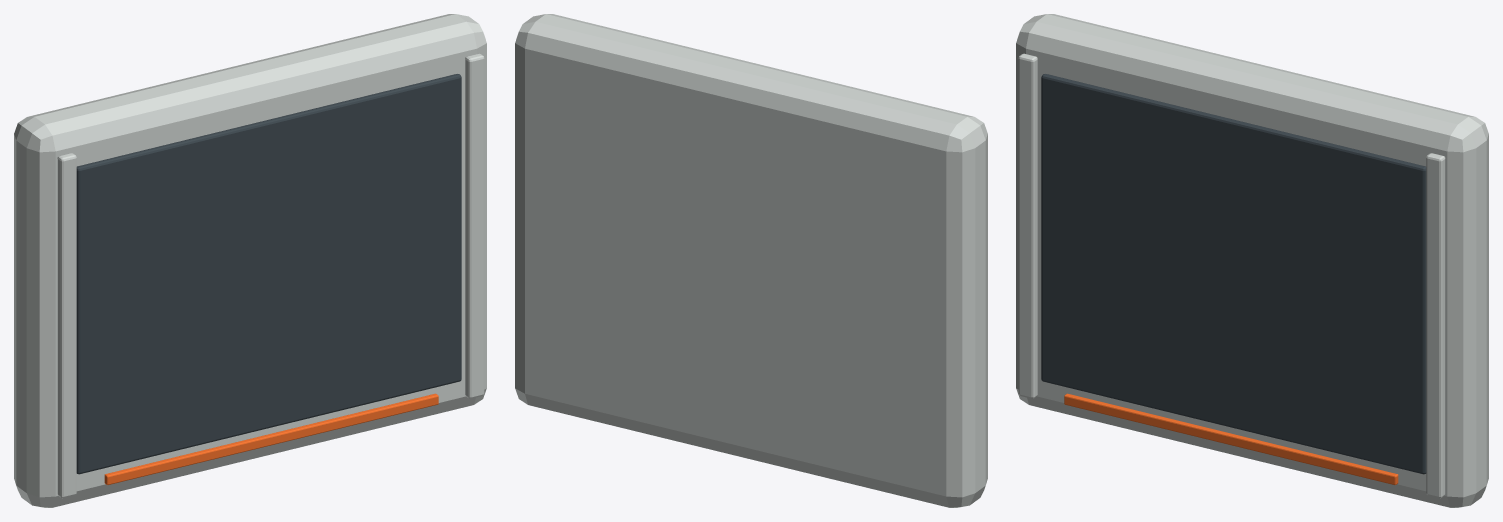
Rendered from LPK_Hull_Exterior_Panel_4m.fbx.
3 renders of one model, left to right at view 1: azimuth 30°, elevation 25°; view 2: azimuth 150°, elevation 25°; view 3: azimuth 330°, elevation 25°, orthographic.
Parts seen in each view (by area): view 1: ExteriorInset, ExteriorHull, ExteriorRib, ExteriorRib.001, ExteriorStripe; view 2: ExteriorHull; view 3: ExteriorInset, ExteriorHull, ExteriorRib, ExteriorRib.001, ExteriorStripe.
Boxes of the visible parts, box(x1,y1,x2,y2) form: ExteriorInset: box(76, 74, 461, 474); ExteriorHull: box(14, 14, 486, 507); ExteriorRib: box(57, 153, 76, 498); ExteriorRib.001: box(465, 53, 484, 398); ExteriorStripe: box(104, 393, 438, 484); ExteriorHull: box(515, 14, 987, 507); ExteriorInset: box(1041, 74, 1426, 474); ExteriorHull: box(1016, 14, 1488, 507); ExteriorRib: box(1018, 53, 1037, 398); ExteriorRib.001: box(1426, 153, 1445, 498); ExteriorStripe: box(1064, 393, 1398, 484).
Bounding box in the file's own units: 4 × 3.2 × 0.59.
